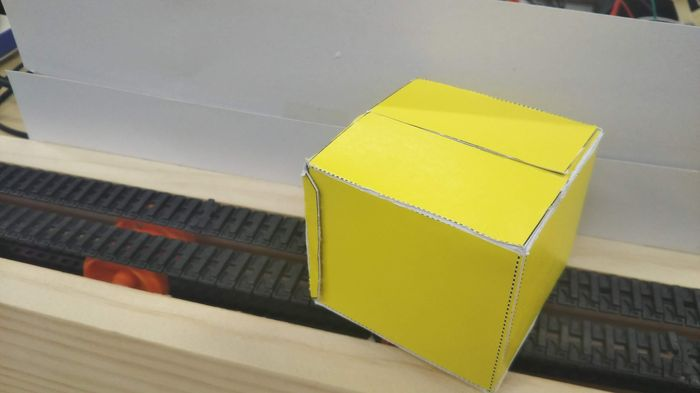box4: (296, 74, 604, 392)
